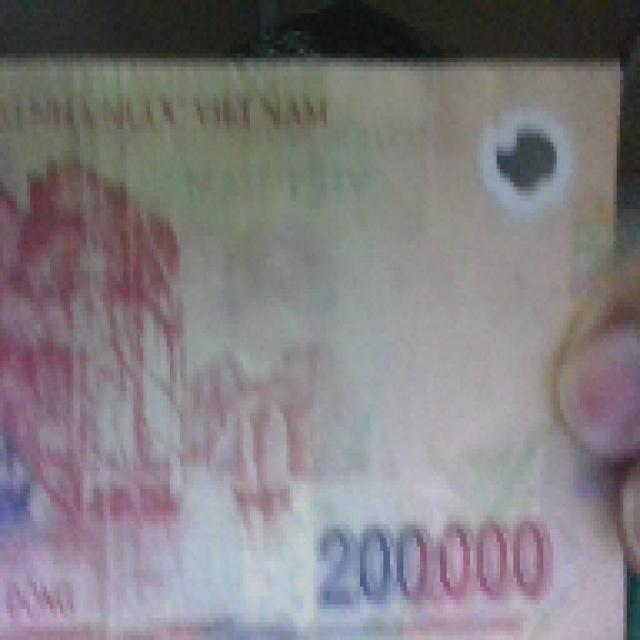200 000 VND: (1, 43, 632, 634)
